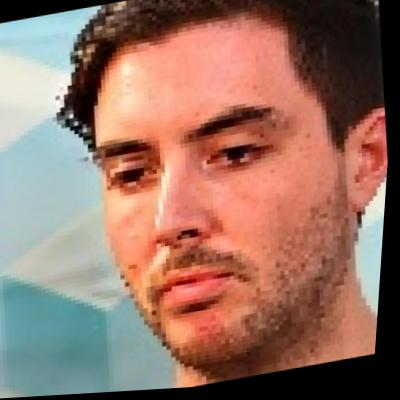sad: (63, 21, 362, 360)
